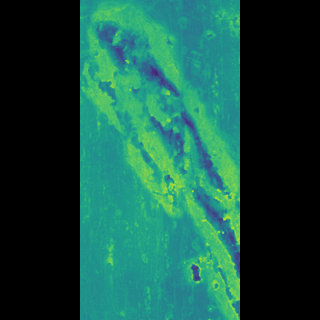Loch: (119, 4, 199, 318)
